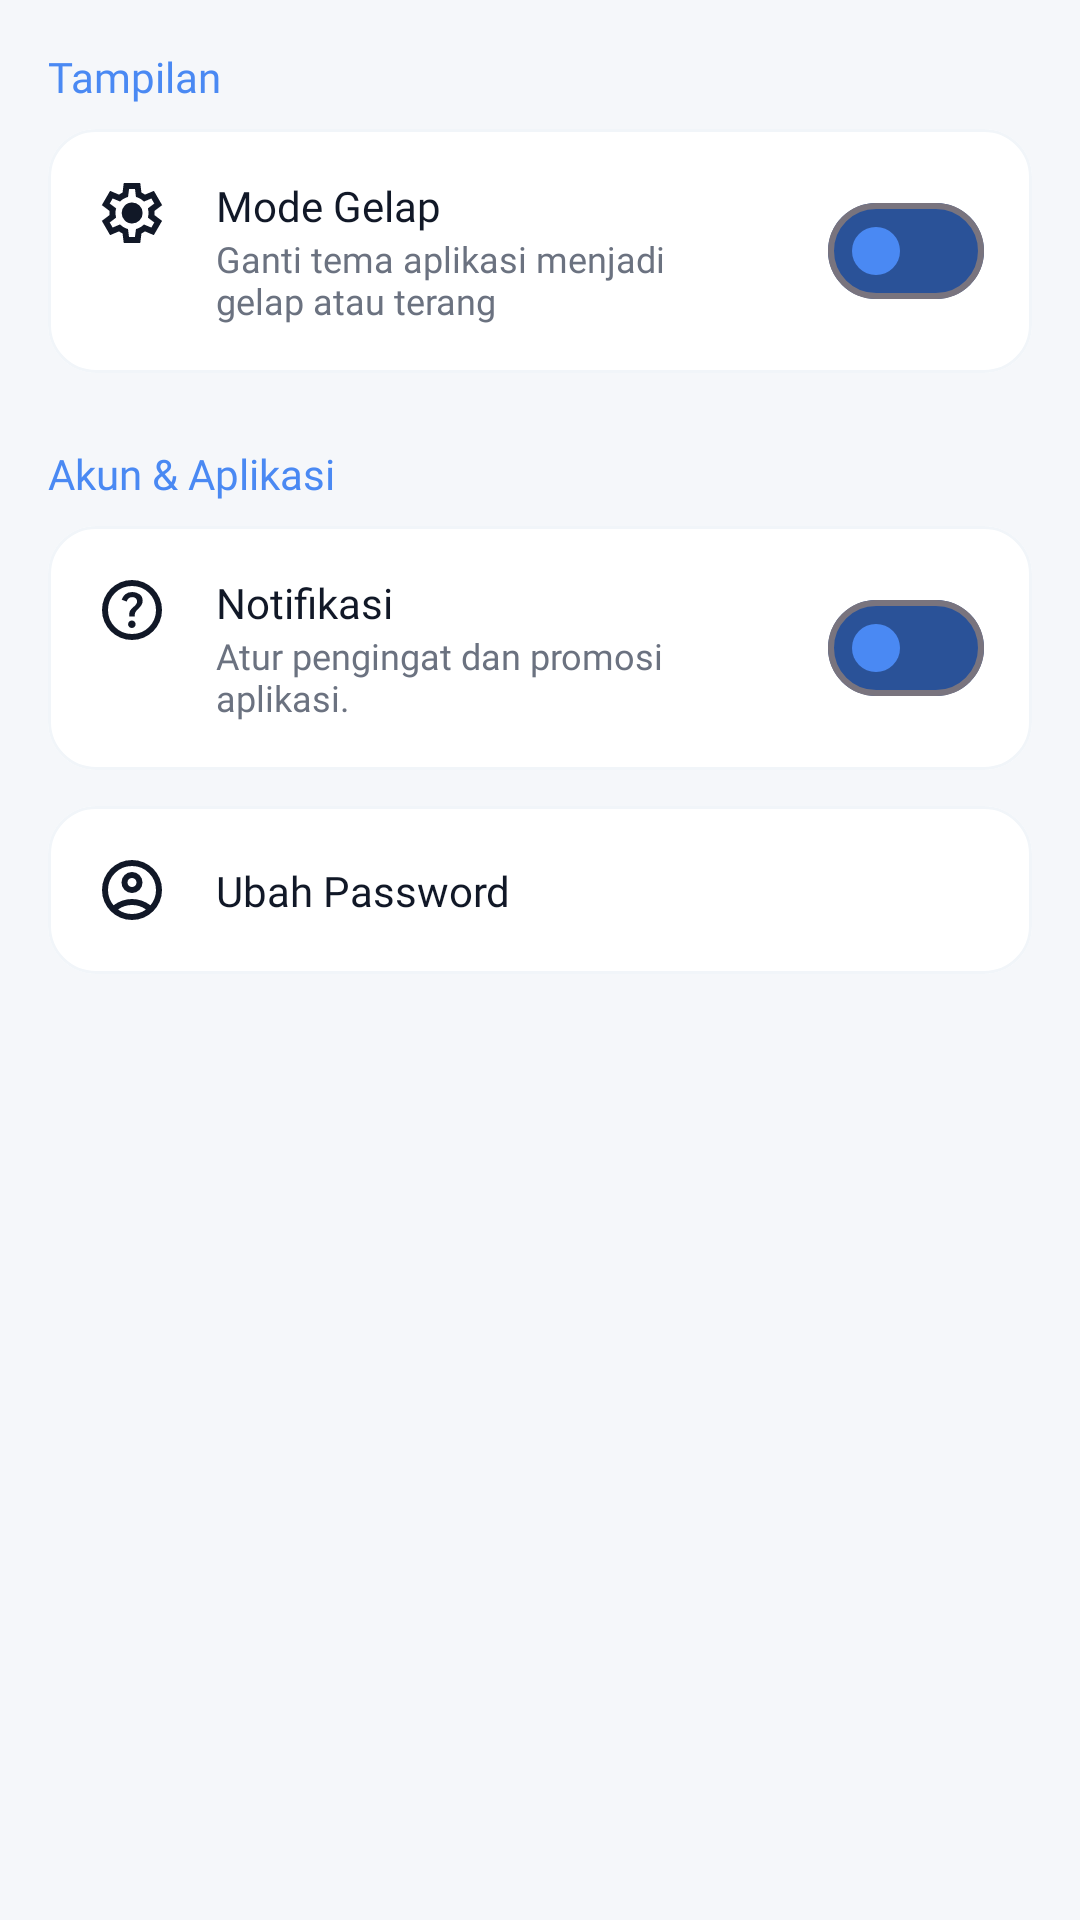

Screen size 1080×1920. Icon name, then its box in pixels as [x1, y1, x2, y2]:
help: [102, 580, 162, 640]
profile: [102, 860, 162, 920]
settings: [102, 183, 162, 243]
